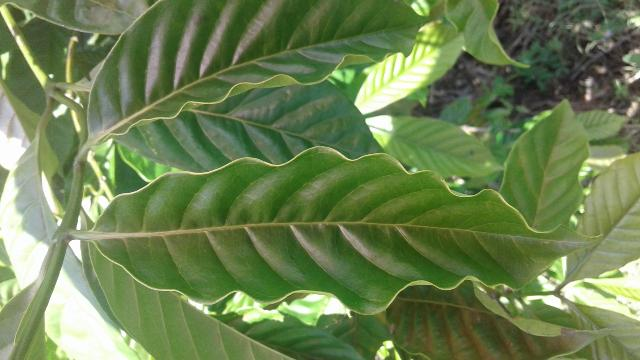healthy: (88, 144, 620, 316)
